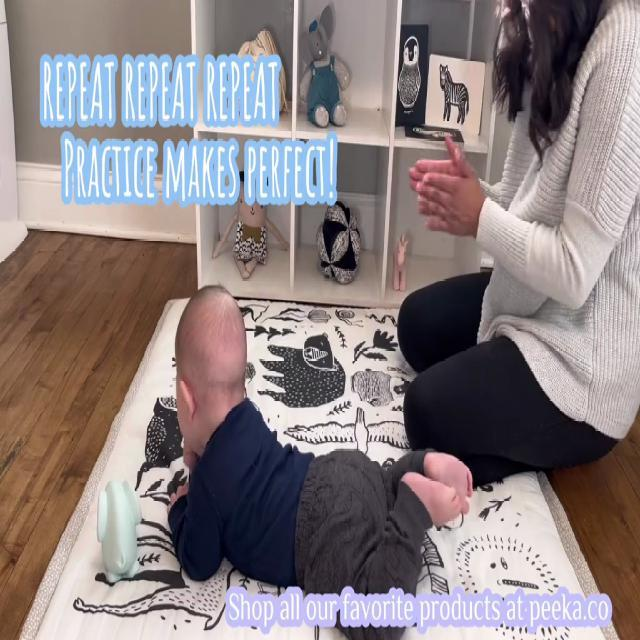baby: (158, 274, 478, 640)
